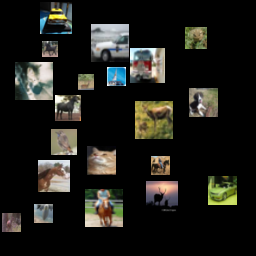airplane: (34, 204, 53, 223)
automobile: (91, 24, 129, 62), (40, 2, 72, 34), (208, 176, 237, 205)
bird: (51, 129, 77, 155)
cat: (15, 62, 53, 100), (87, 146, 116, 175)
deer: (135, 101, 173, 139), (146, 181, 178, 213), (2, 213, 21, 232), (78, 74, 94, 90)
dog: (189, 88, 218, 117)
frog: (185, 27, 207, 49)
ship: (107, 67, 126, 86)
